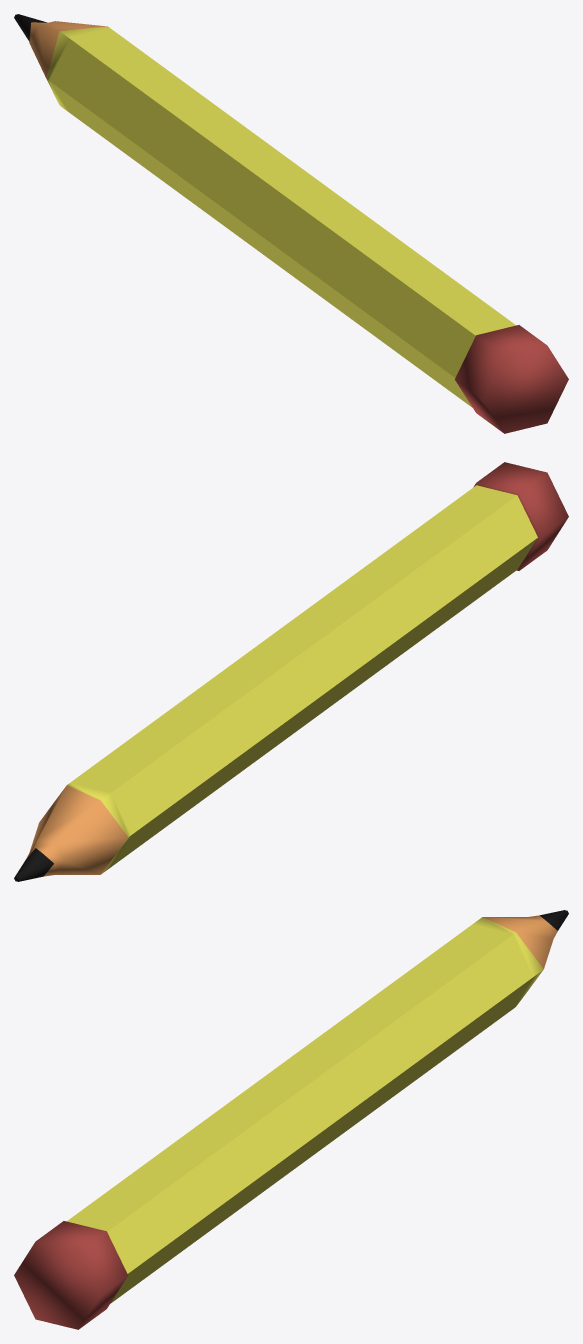
The model's file is pencil.glb.
The picture shows the model from 3 angles, top to bottom: view 1: azimuth 30°, elevation 25°; view 2: azimuth 150°, elevation 25°; view 3: azimuth 330°, elevation 25°; orthographic projection.
Visible parts, largest first — view 1: Cube.005; view 2: Cube.005; view 3: Cube.005.
Part boxes in pixels (box(x1,y1,x2,y2)): Cube.005: box(14, 14, 568, 433); Cube.005: box(14, 462, 568, 881); Cube.005: box(14, 910, 568, 1329).
Size of the model in its own units: 0.0154 by 0.0134 by 0.1584.
